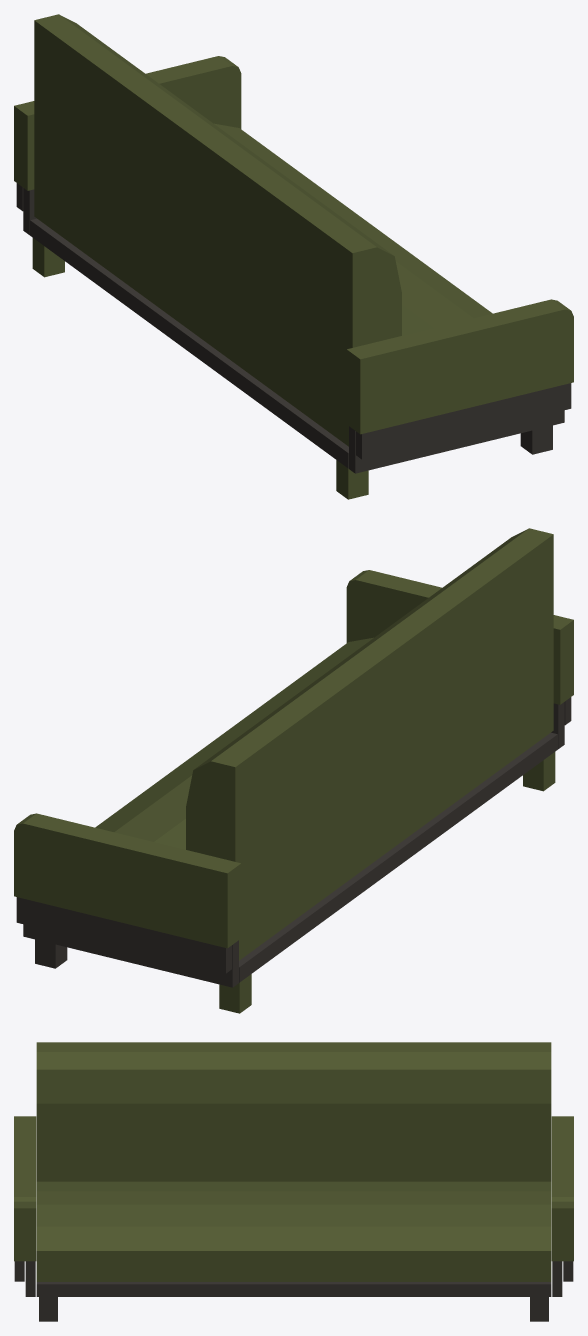
The model's file is SM_Couch_01.glb.
3 renders of one model, top to bottom at view 1: azimuth 30°, elevation 25°; view 2: azimuth 150°, elevation 25°; view 3: azimuth 270°, elevation 25°, orthographic. The views are drawn at different scales.
Visible parts, largest first — view 1: SM_Couch_01; view 2: SM_Couch_01; view 3: SM_Couch_01.
Part boxes in pixels (x1,y1,x2,y2): SM_Couch_01: (14,14,573,499); SM_Couch_01: (14,528,573,1013); SM_Couch_01: (14,1042,573,1321).
Bounding box in the file's own units: 0.8586 × 0.9478 × 2.41.
1 material, 1 textured.
